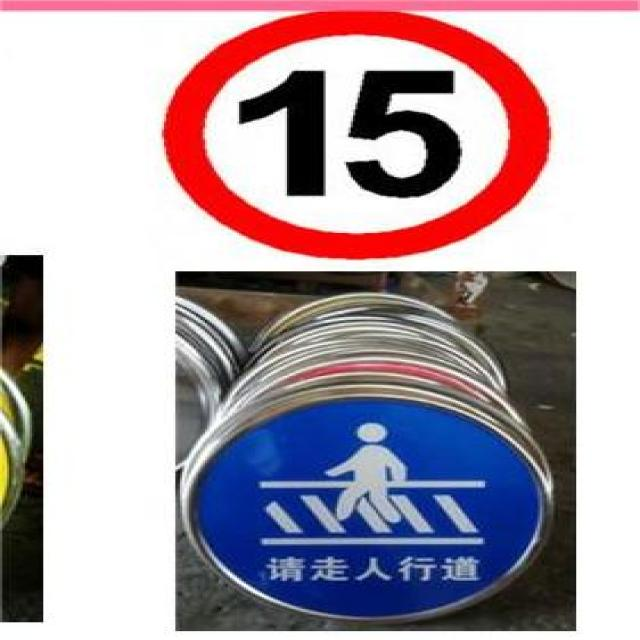speed limit 20: (166, 11, 554, 259)
